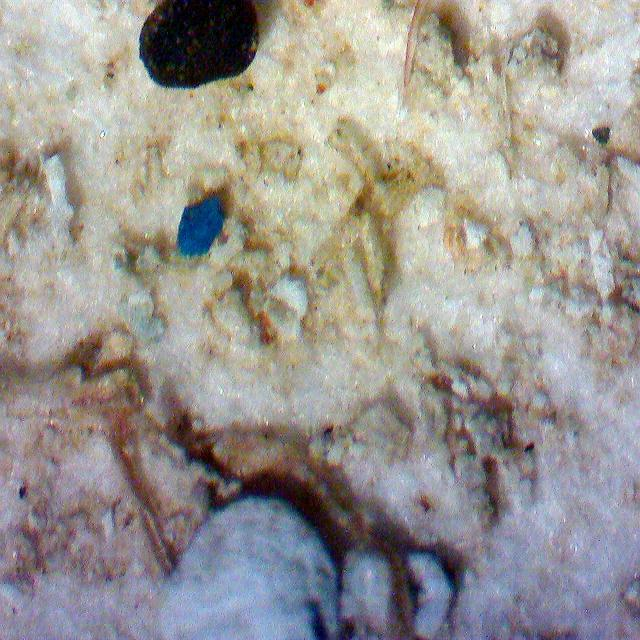microplastic: (175, 195, 224, 259)
